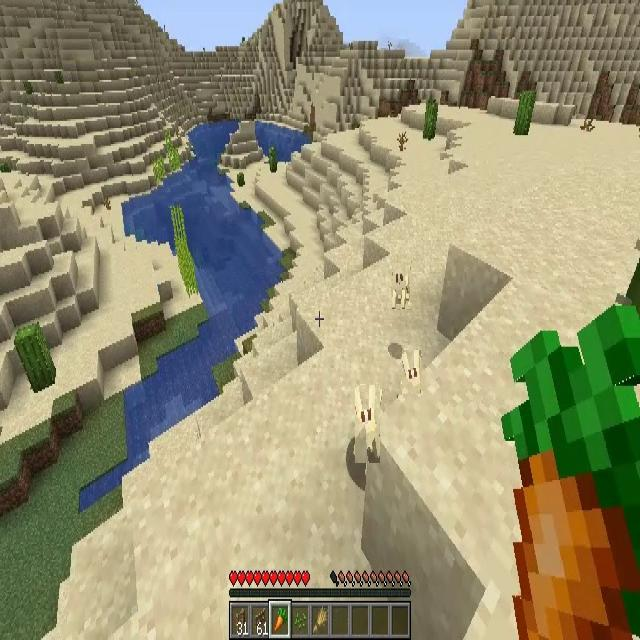rabbit: (355, 386, 380, 464), (402, 350, 421, 394), (392, 263, 410, 309)
